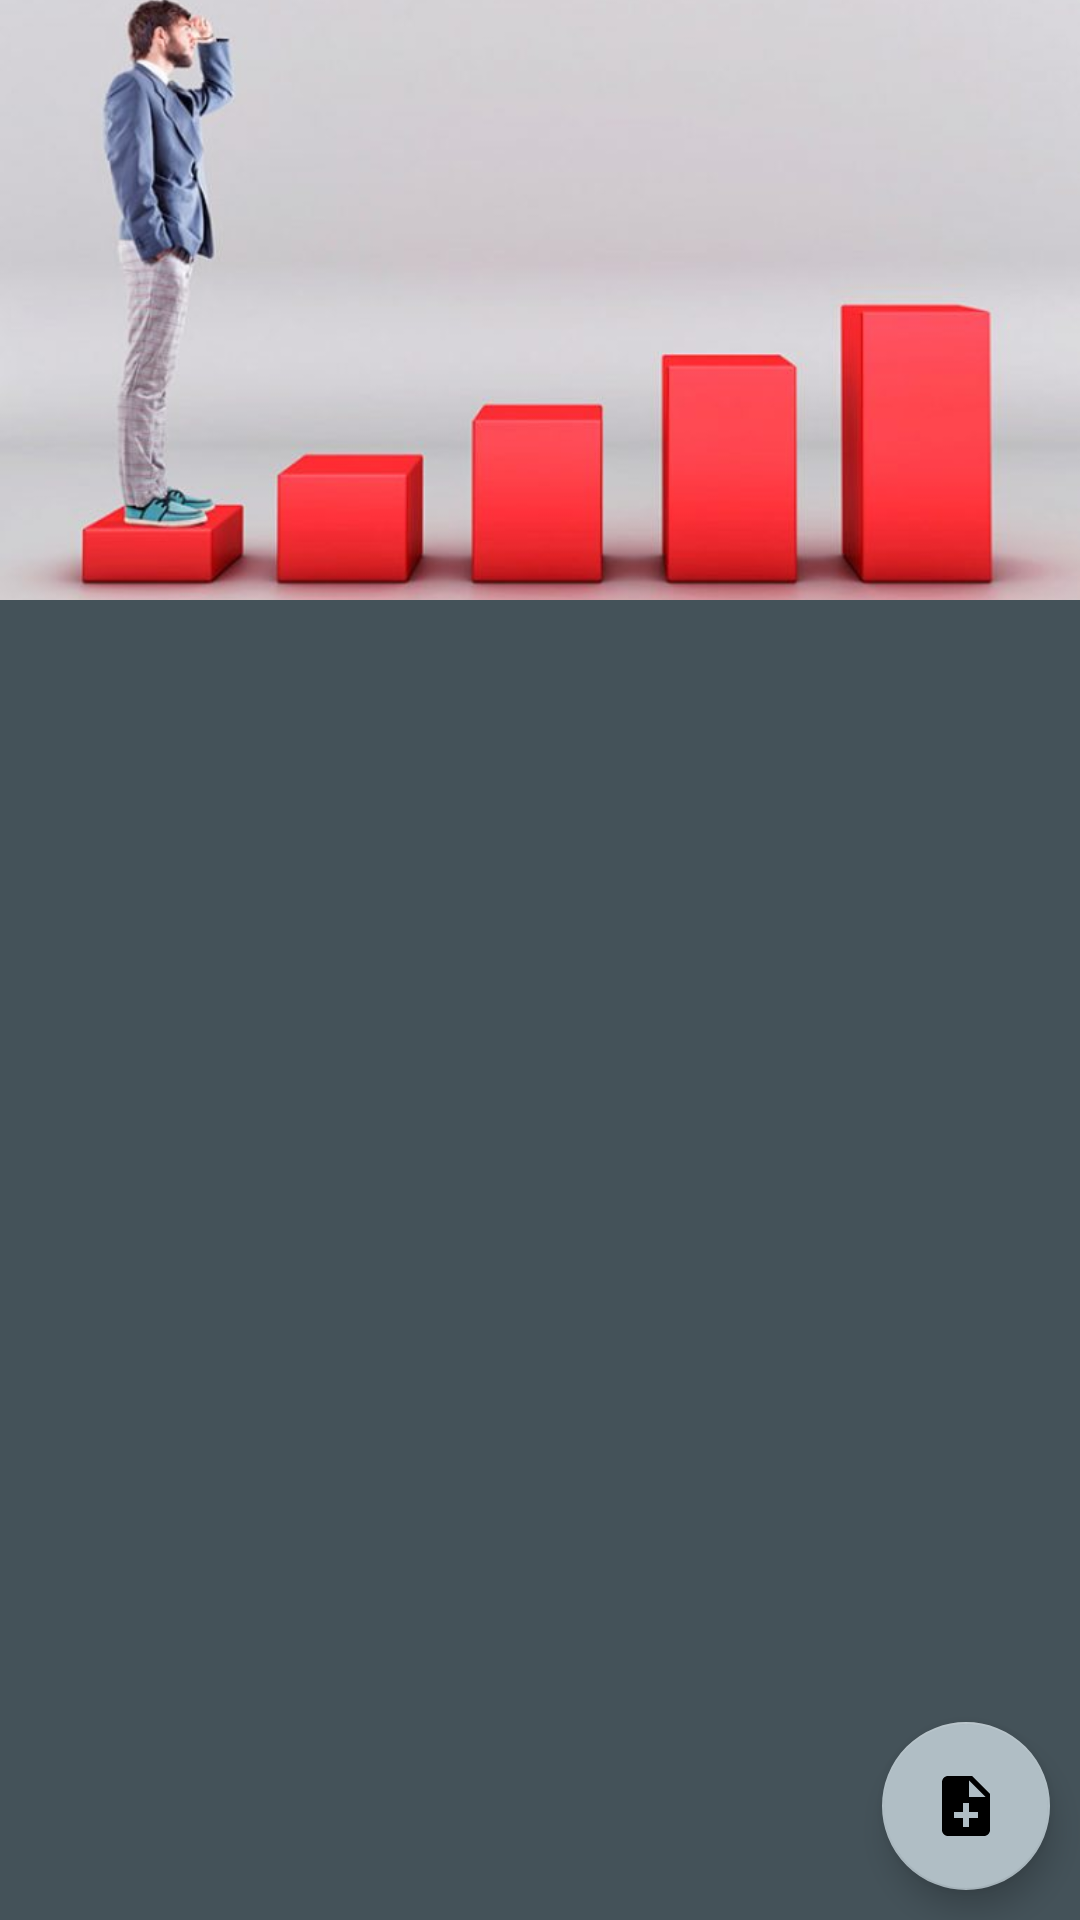

Named icons in this screenshot (1080*1920) and their centers, (x,y):
Open add report screen: (966,1806)
